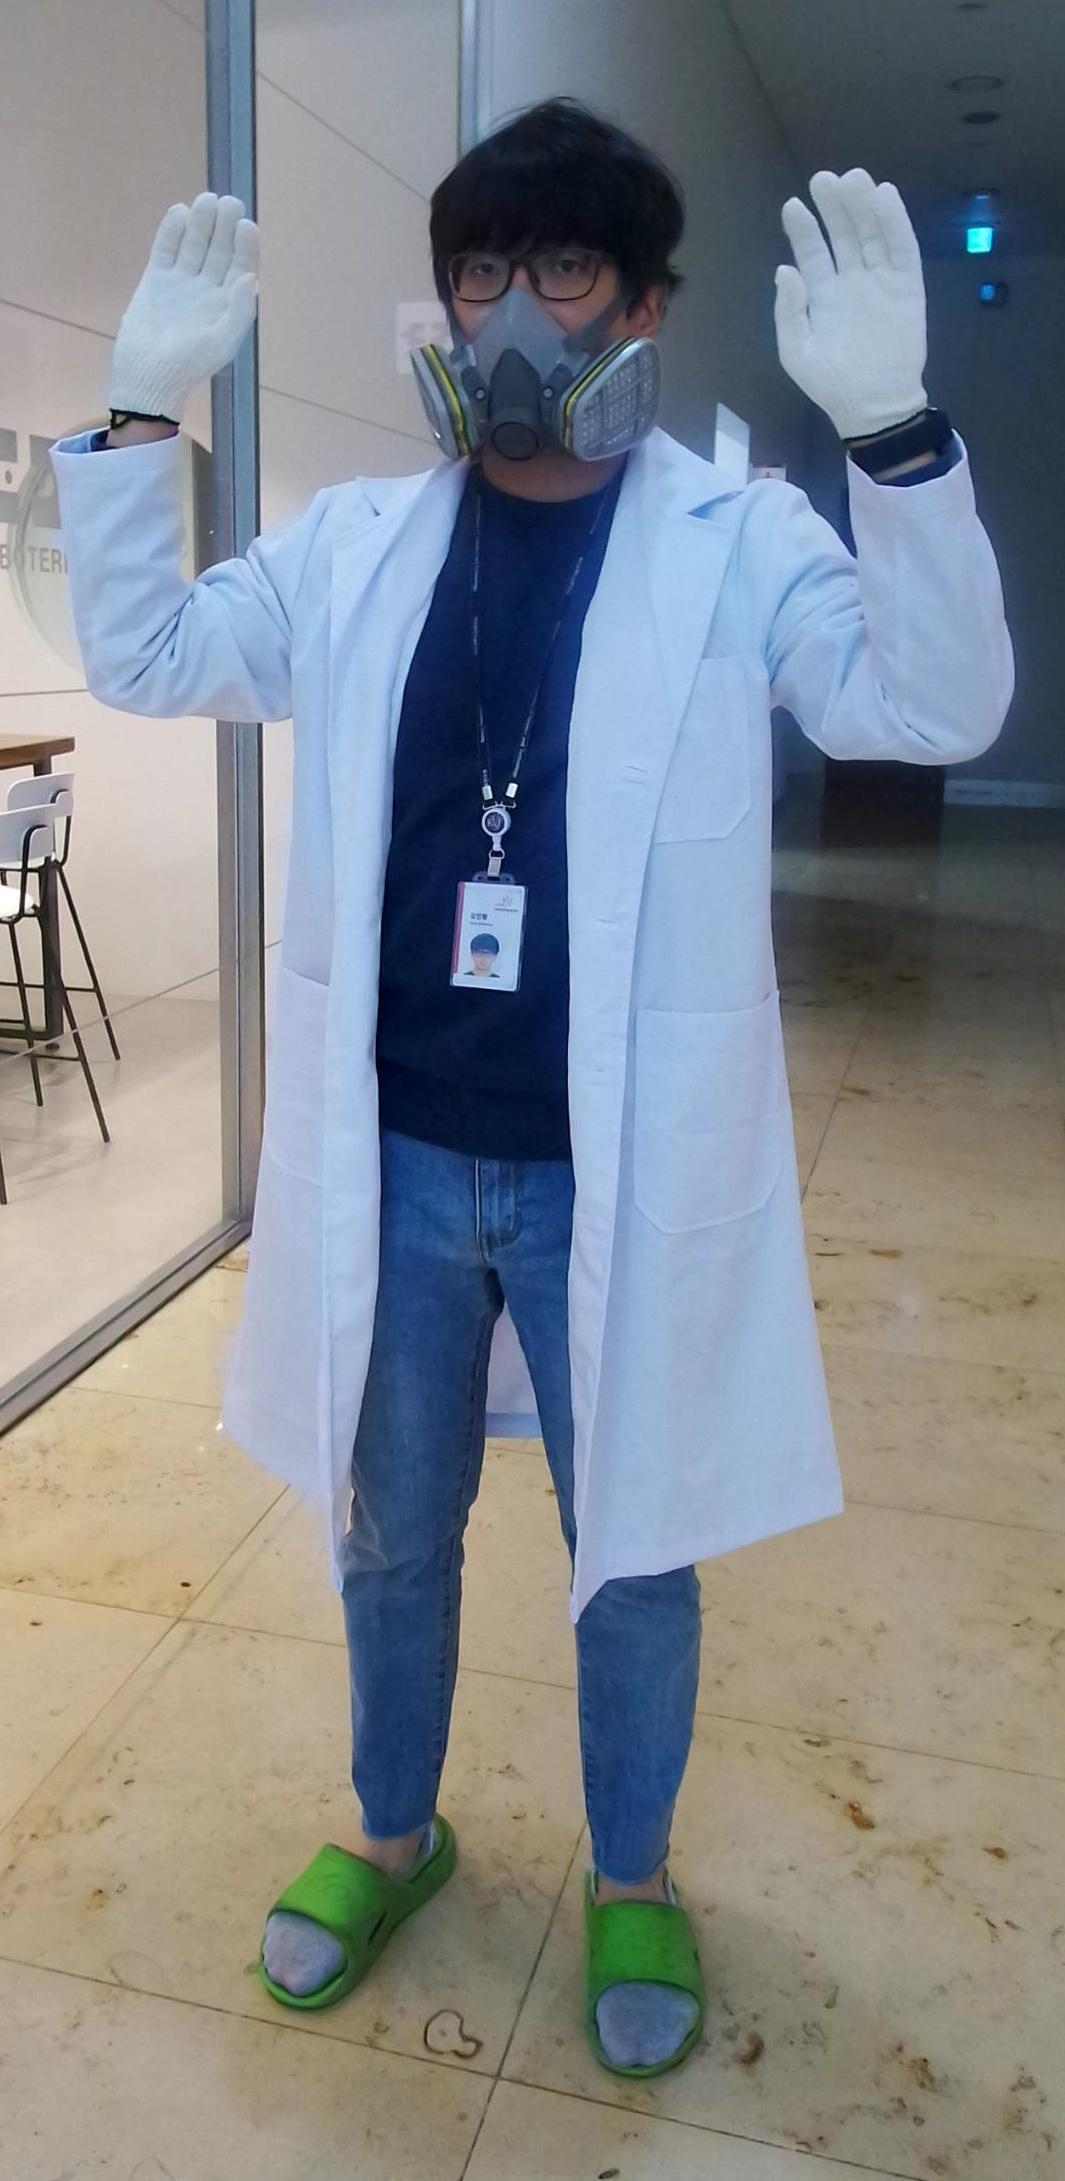lab_coat: (241, 472, 816, 1534)
